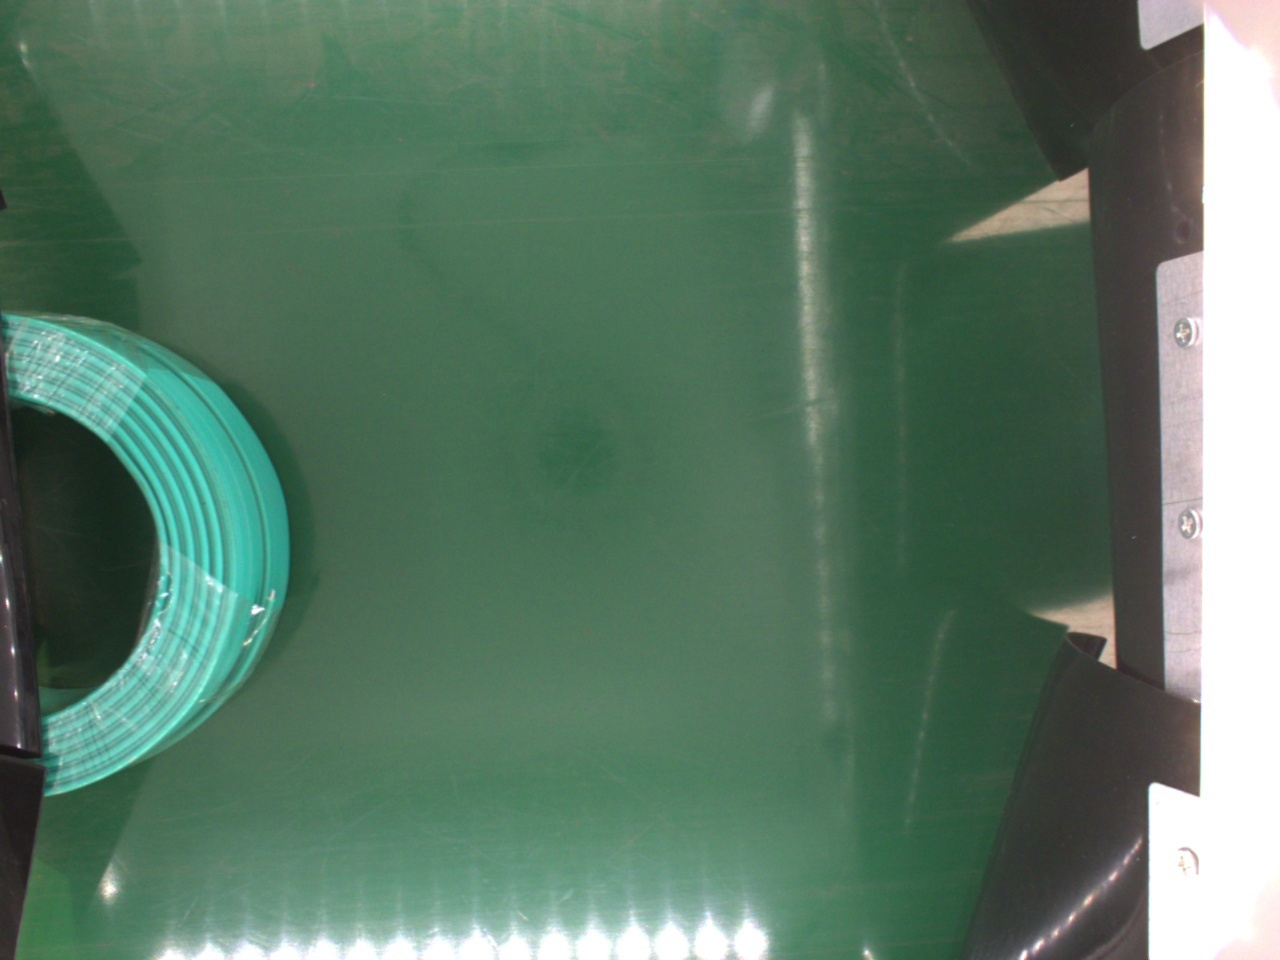green: (8, 312, 286, 801)
